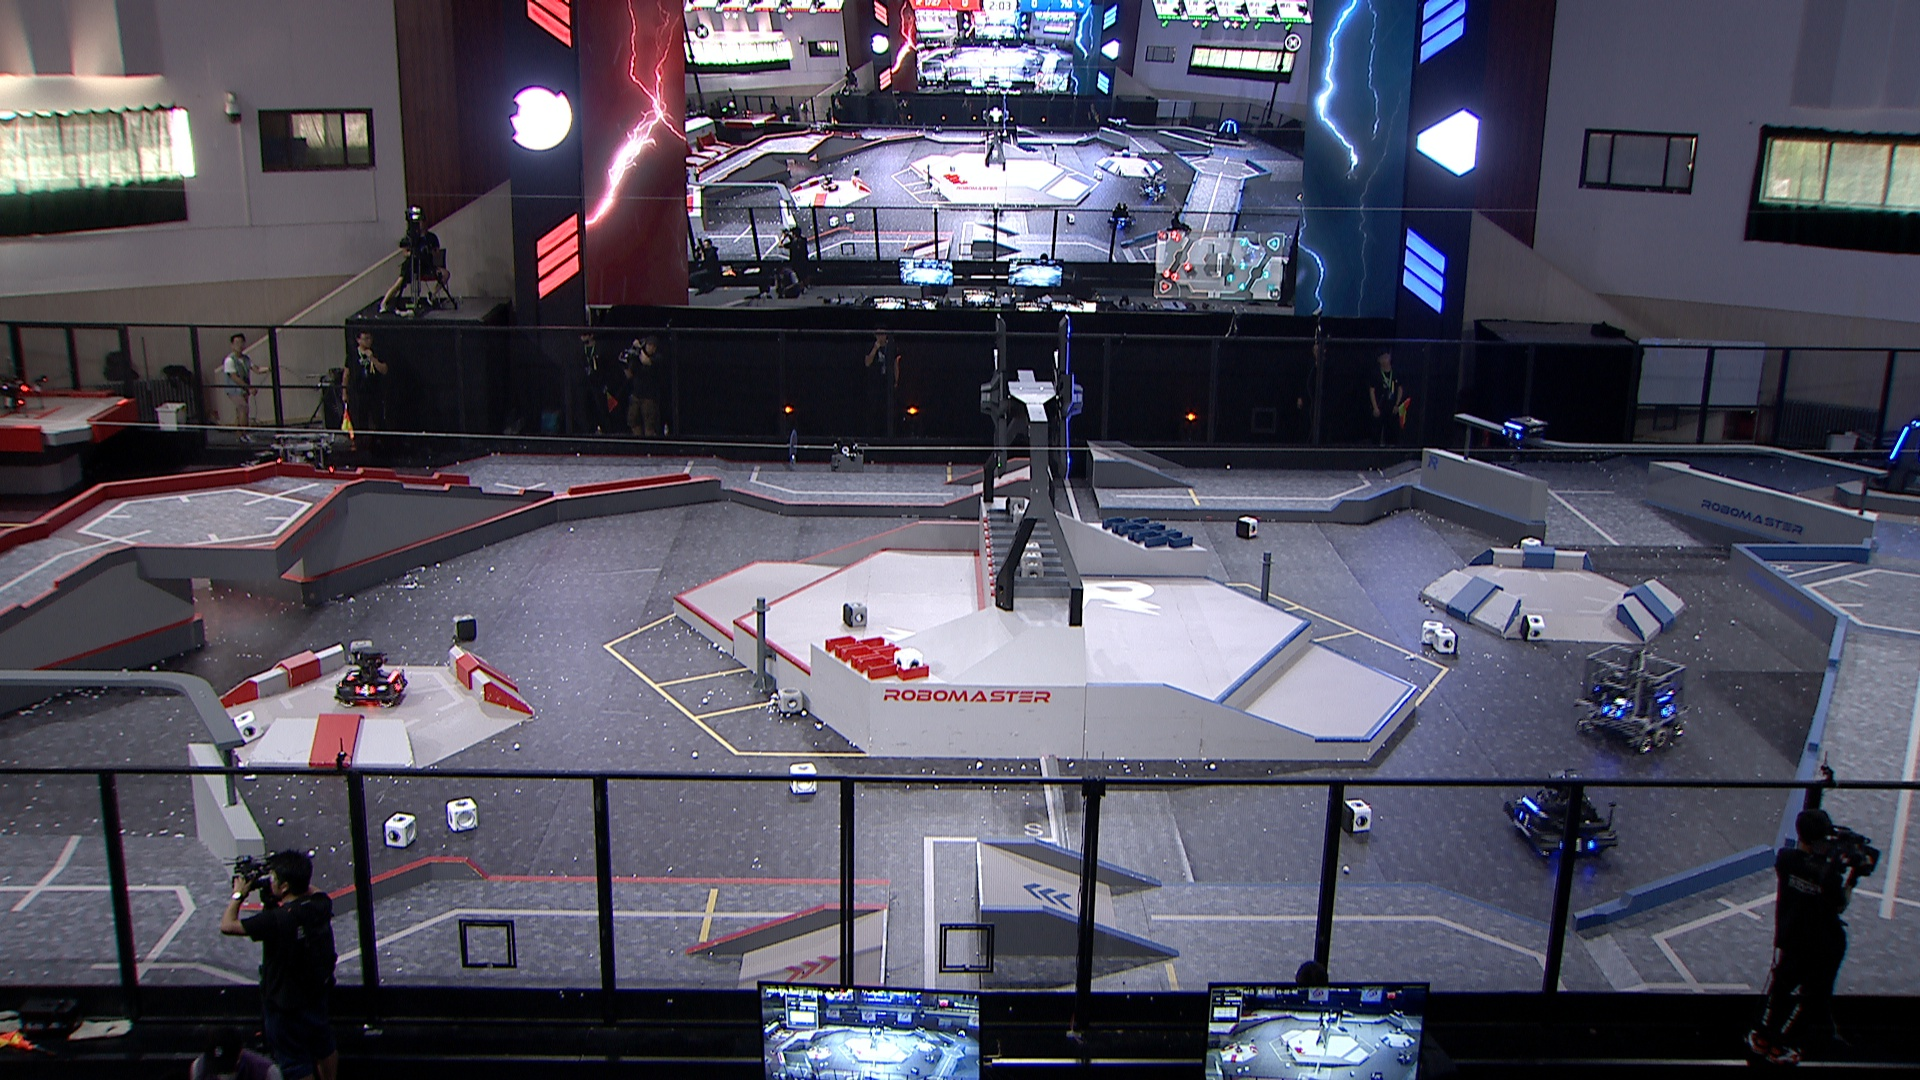armor: (1557, 835, 1600, 858), (1888, 425, 1909, 460), (1516, 808, 1536, 833), (1604, 703, 1626, 719), (356, 684, 376, 698), (1501, 429, 1522, 440), (392, 678, 406, 694), (1660, 703, 1676, 717), (347, 669, 359, 680)
base: (1869, 419, 1920, 500)
car: (1571, 646, 1693, 760), (1505, 771, 1617, 860), (269, 427, 342, 504), (334, 646, 411, 708)
ignore: (1139, 173, 1168, 204), (1215, 120, 1242, 142), (1109, 214, 1138, 233), (822, 175, 839, 194), (684, 167, 703, 183), (1116, 117, 1129, 131)
watcher: (1501, 415, 1548, 465)
